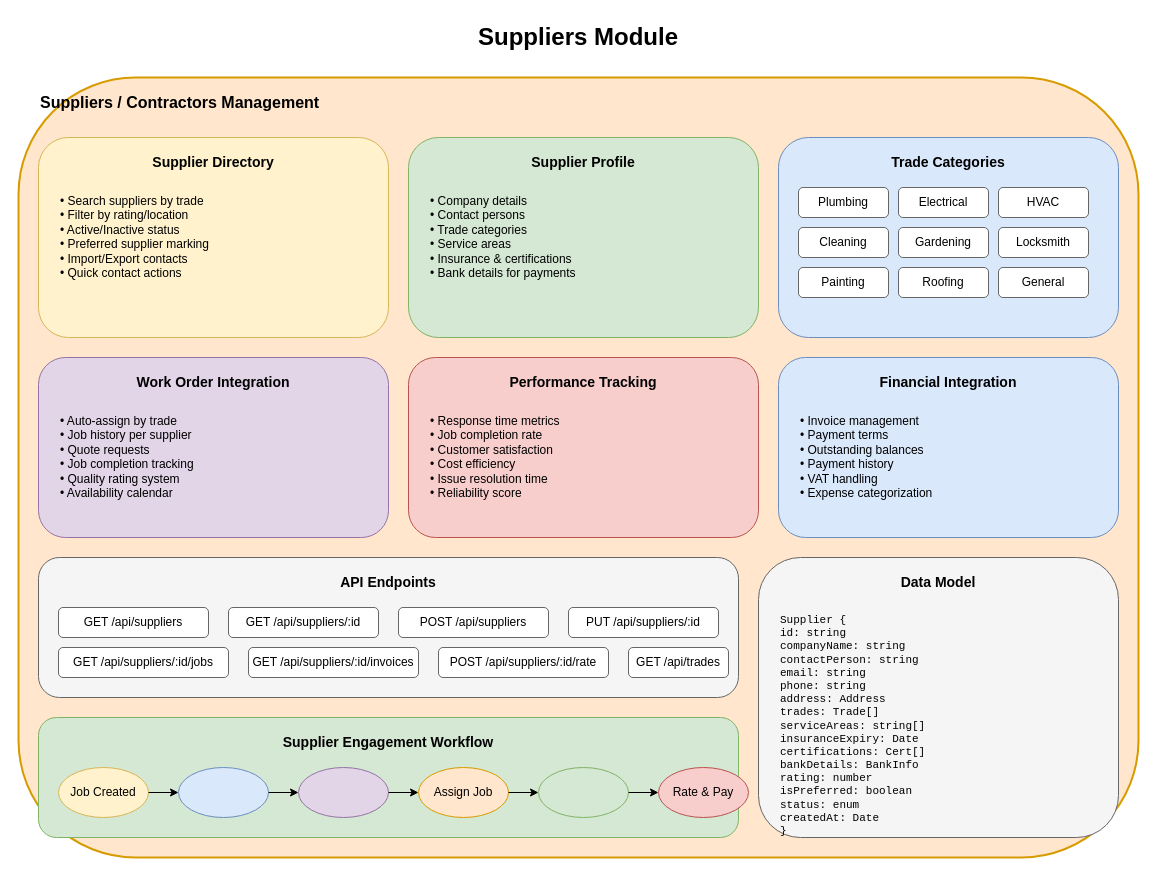
Image size: 1156x875. Some labels were removed from this diagram. Here are the shapes that lost their labels. From the top down, the centre of each, then its label:
At (223,792): "Find Supplier".
At (343,792): "Request Quote".
At (583,792): "Complete".
